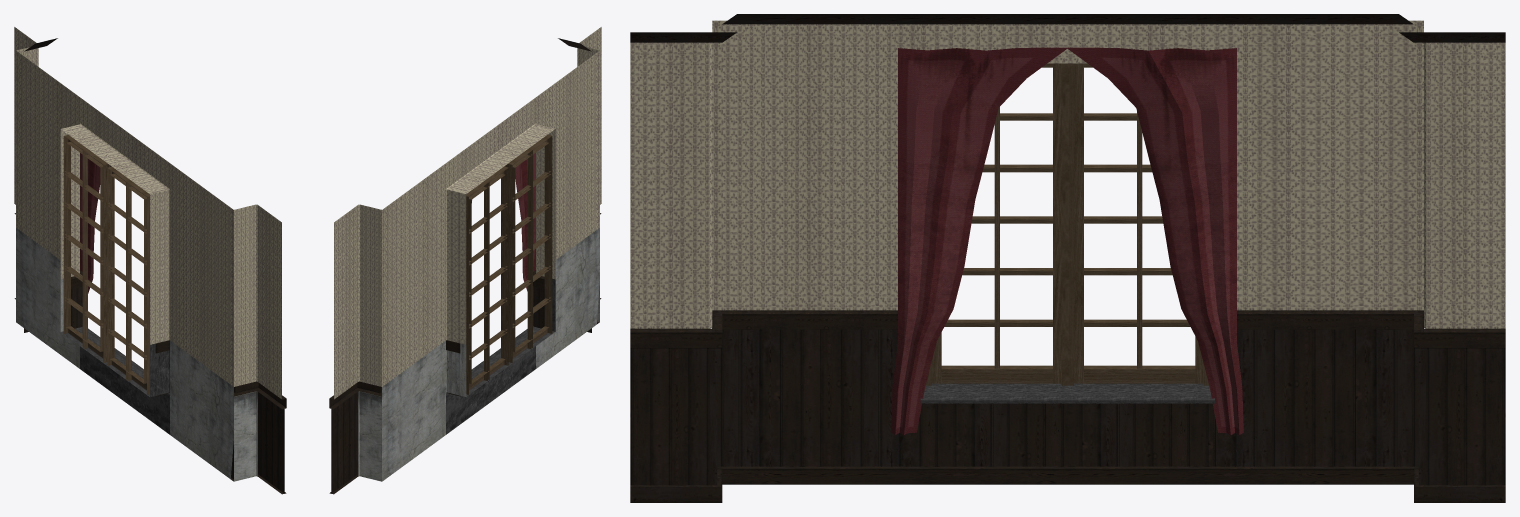
File: #LVL_Wall_Window.fbx
3 views of the same model, side by side, from view 1: azimuth 30°, elevation 25°; view 2: azimuth 150°, elevation 25°; view 3: azimuth 270°, elevation 25° (orthographic). The views are drawn at different scales.
Parts seen in each view (by area): view 1: Cube_044; view 2: Cube_044; view 3: Cube_044.
Part boxes in pixels (<box>): Cube_044: <box>14,27,286,494</box>; Cube_044: <box>329,27,601,494</box>; Cube_044: <box>630,14,1505,502</box>.
Bounding box in the file's own units: 2.35 × 12 × 20.
